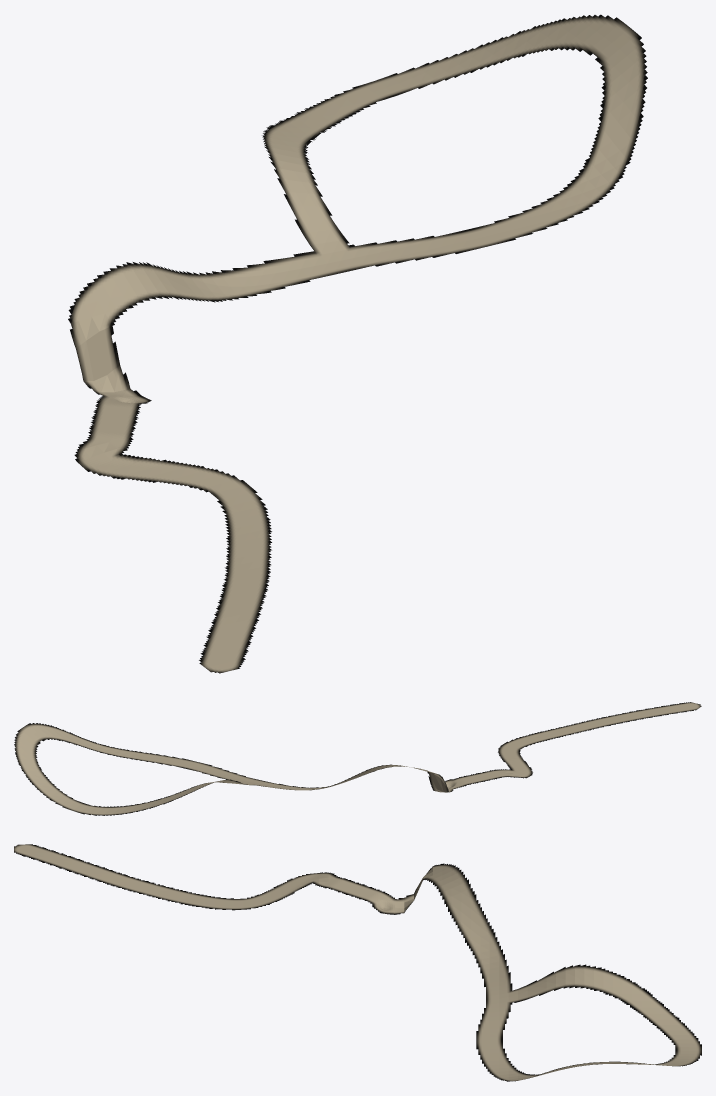
Rendered from SM_Footpath.fbx.
3 renders of one model, top to bottom at view 1: azimuth 30°, elevation 25°; view 2: azimuth 150°, elevation 25°; view 3: azimuth 270°, elevation 25°, orthographic. The views are drawn at different scales.
Visible parts, largest first — view 1: SM_Footpath; view 2: SM_Footpath; view 3: SM_Footpath.
Part boxes in pixels (box(x1,y1,x2,y2)): SM_Footpath: box(68, 14, 647, 673); SM_Footpath: box(14, 702, 701, 815); SM_Footpath: box(14, 844, 701, 1081).
Size of the model in its own units: 6760 by 7260 by 641.
